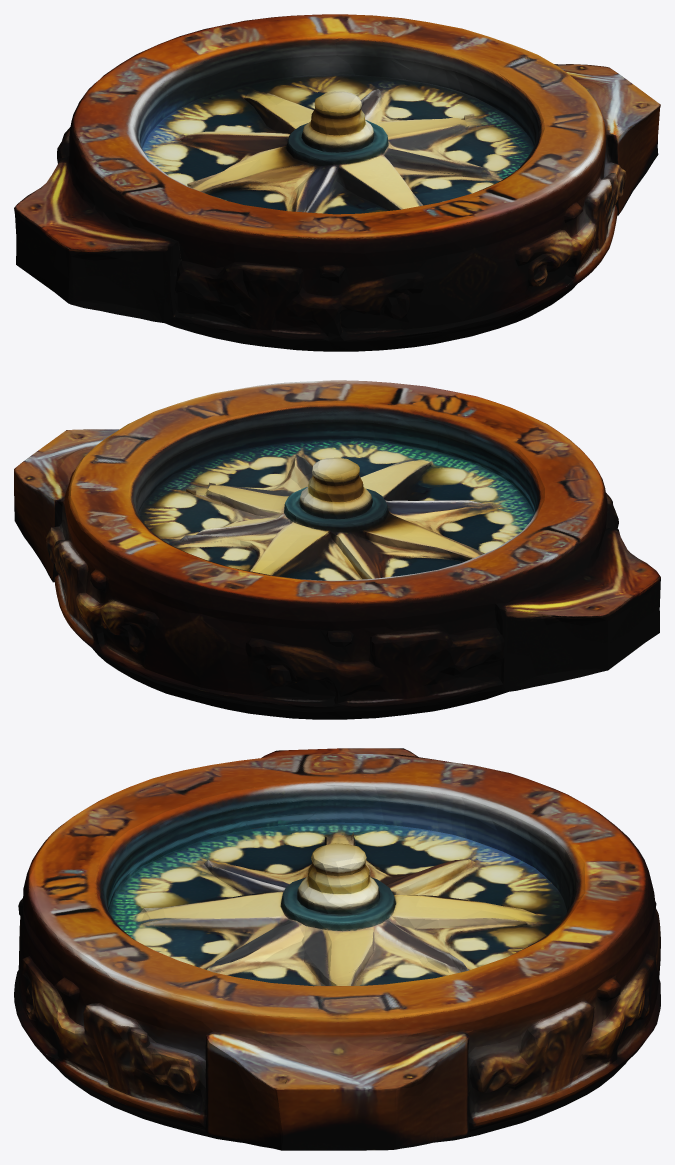
File: wooden-compass-art-deco.jpeg.glb
3 renders of one model, top to bottom at view 1: azimuth 30°, elevation 25°; view 2: azimuth 150°, elevation 25°; view 3: azimuth 270°, elevation 25°, orthographic. The views are drawn at different scales.
Visible parts, largest first — view 1: world; view 2: world; view 3: world.
Boxes of the visible parts, left/top/right/bottom form: world: left=14, top=14, right=660, bottom=351; world: left=14, top=380, right=660, bottom=719; world: left=14, top=748, right=660, bottom=1150.
Size of the model in its own units: 1 by 0.2328 by 0.8046.
1 material, 1 textured.
